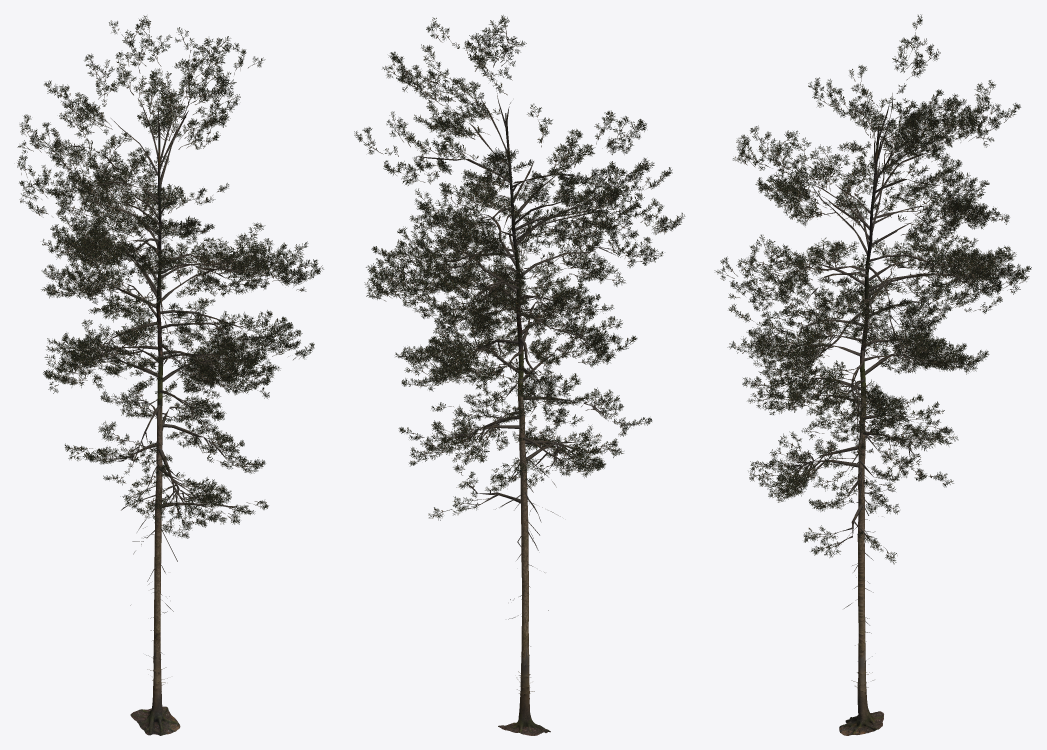
Rendered from hero.gltf.
3 views of the same model, side by side, from view 1: azimuth 30°, elevation 25°; view 2: azimuth 150°, elevation 25°; view 3: azimuth 270°, elevation 25° (orthographic). The views are drawn at different scales.
Parts seen in each view (by area): view 1: Pine Tree 01 A; view 2: Pine Tree 01 A; view 3: Pine Tree 01 A.
Part boxes in pixels (box(x1,y1,x2,y2)): Pine Tree 01 A: box(17, 15, 323, 735); Pine Tree 01 A: box(354, 15, 685, 735); Pine Tree 01 A: box(714, 14, 1031, 735).
Bounding box in the file's own units: 7.6 × 20.37 × 8.3.
Materials: 4 (4 with a texture image).
